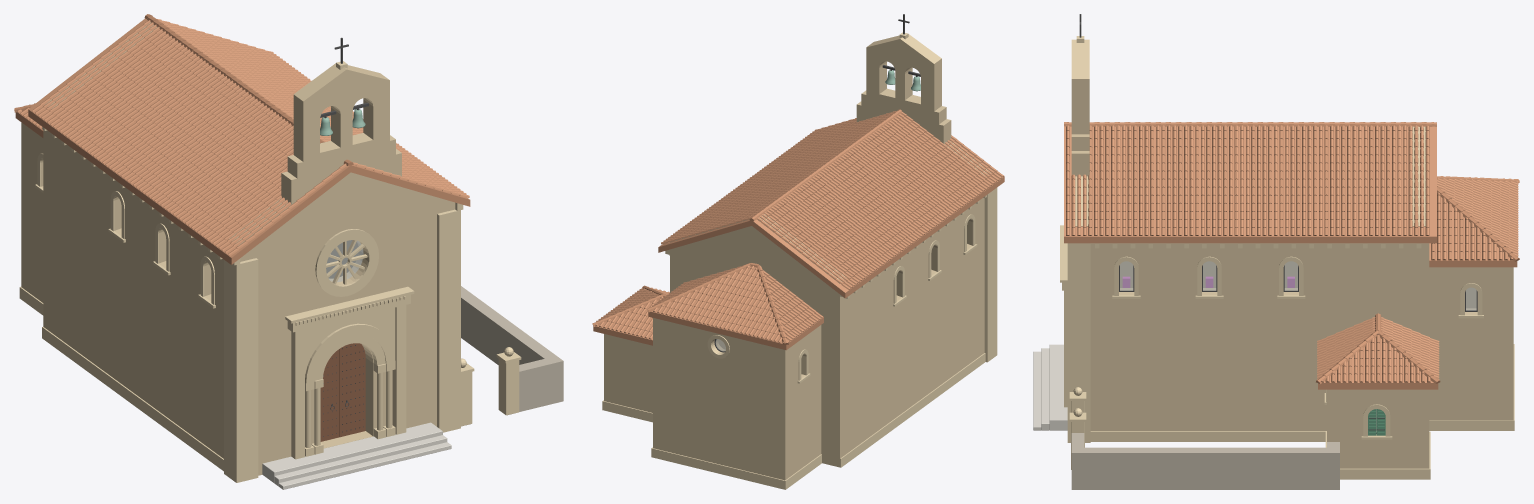
The model's file is les_calanques_H06.glb.
3 renders of one model, left to right at view 1: azimuth 30°, elevation 25°; view 2: azimuth 150°, elevation 25°; view 3: azimuth 270°, elevation 25°, orthographic. The views are drawn at different scales.
Visible parts, largest first — view 1: Arch_roof_terracotta_tiles, Shell_Nave_Wall_Front, Shell_Nave_Wall_West, Arch_sandstone_ashlar, Roof_Nave, Shell_Churchyard_Wall_East, Shell_Entrance_Podium, DoorLeaf_01a_L_in, Shell_Nave_Wall_Back, Shell_Choir_Wall_West, Shell_Churchyard_Wall_South, DoorLeaf_01b_R_in (+6 smaller); view 2: Arch_roof_terracotta_tiles, Shell_Nave_Wall_West, Shell_Choir_Wall_Back, Shell_Nave_Wall_Back, Arch_sandstone_ashlar, Roof_Nave, Shell_Nave_Wall_Front, Shell_Choir_Wall_West, Roof_Choir, Shell_Sacristy_Wall_North, Arch_terracotta_ridge, Roof_Sacristy; view 3: Shell_Nave_Wall_East, Arch_roof_terracotta_tiles, Roof_Nave, Arch_sandstone_ashlar, Shell_Churchyard_Wall_East, Shell_Choir_Wall_East, Shell_Sacristy_Wall_East, Arch_terracotta_ridge, Shell_Nave_Wall_Front, Shell_Choir_Wall_Back, Shell_Nave_Wall_Back, Roof_Sacristy (+10 smaller).
Part boxes in pixels (left/top/right/bottom): Arch_roof_terracotta_tiles: left=17, top=19, right=469, bottom=256; Shell_Nave_Wall_Front: left=229, top=63, right=455, bottom=475; Shell_Nave_Wall_West: left=53, top=137, right=223, bottom=458; Arch_sandstone_ashlar: left=19, top=61, right=521, bottom=482; Roof_Nave: left=28, top=18, right=470, bottom=264; Shell_Churchyard_Wall_East: left=461, top=286, right=556, bottom=364; Shell_Entrance_Podium: left=262, top=422, right=442, bottom=482; DoorLeaf_01a_L_in: left=339, top=343, right=365, bottom=437; Shell_Nave_Wall_Back: left=43, top=22, right=157, bottom=333; Shell_Choir_Wall_West: left=29, top=128, right=43, bottom=302; Shell_Churchyard_Wall_South: left=519, top=356, right=563, bottom=411; DoorLeaf_01b_R_in: left=320, top=349, right=339, bottom=441; Arch_roof_terracotta_tiles: left=595, top=111, right=1003, bottom=343; Shell_Nave_Wall_West: left=847, top=198, right=984, bottom=452; Shell_Choir_Wall_Back: left=653, top=318, right=791, bottom=480; Shell_Nave_Wall_Back: left=670, top=214, right=847, bottom=467; Arch_sandstone_ashlar: left=602, top=32, right=997, bottom=489; Roof_Nave: left=658, top=114, right=1004, bottom=298; Shell_Nave_Wall_Front: left=856, top=34, right=990, bottom=176; Shell_Choir_Wall_West: left=791, top=325, right=821, bottom=475; Roof_Choir: left=648, top=266, right=823, bottom=350; Shell_Sacristy_Wall_North: left=604, top=334, right=652, bottom=412; Arch_terracotta_ridge: left=592, top=109, right=901, bottom=344; Roof_Sacristy: left=593, top=300, right=658, bottom=345; Shell_Nave_Wall_East: left=1090, top=244, right=1411, bottom=430; Arch_roof_terracotta_tiles: left=1066, top=125, right=1518, bottom=382; Roof_Nave: left=1064, top=126, right=1436, bottom=243; Arch_sandstone_ashlar: left=1060, top=36, right=1514, bottom=479; Shell_Churchyard_Wall_East: left=1084, top=447, right=1339, bottom=489; Shell_Choir_Wall_East: left=1429, top=267, right=1498, bottom=420; Shell_Sacristy_Wall_East: left=1340, top=389, right=1416, bottom=468; Arch_terracotta_ridge: left=1064, top=122, right=1519, bottom=383; Shell_Nave_Wall_Front: left=1071, top=39, right=1089, bottom=226; Shell_Choir_Wall_Back: left=1498, top=267, right=1513, bottom=420; Shell_Nave_Wall_Back: left=1411, top=126, right=1429, bottom=336; Roof_Sacristy: left=1318, top=337, right=1438, bottom=389.
Bounding box in the file's own units: 14 × 16.35 × 19.04.
